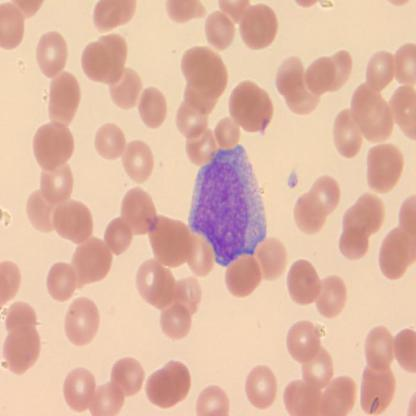Promyelocyte: (189, 142, 267, 266)
